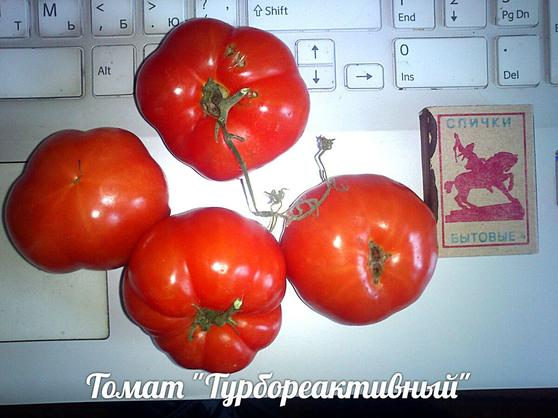tomato: (135, 20, 314, 179), (121, 209, 287, 370), (277, 172, 441, 327), (5, 130, 180, 275)
